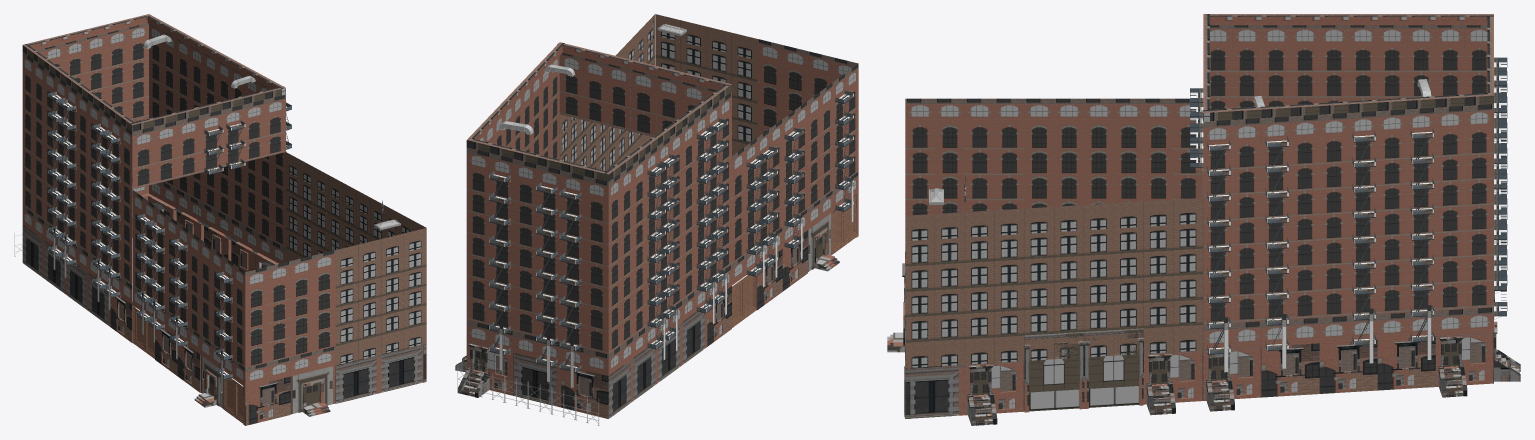
Rendered from proc3_08.gltf.
3 renders of one model, left to right at view 1: azimuth 30°, elevation 25°; view 2: azimuth 150°, elevation 25°; view 3: azimuth 270°, elevation 25°, orthographic. The views are drawn at different scales.
Visible parts, largest first — view 1: proc3_08; view 2: proc3_08; view 3: proc3_08.
Boxes of the visible parts, box(x1,y1,x2,y2) form: proc3_08: box(14, 14, 426, 425); proc3_08: box(455, 14, 858, 425); proc3_08: box(887, 14, 1520, 425).
Bounding box in the file's own units: 33.38 × 34 × 67.75.
Materials: 9 (6 with a texture image).
